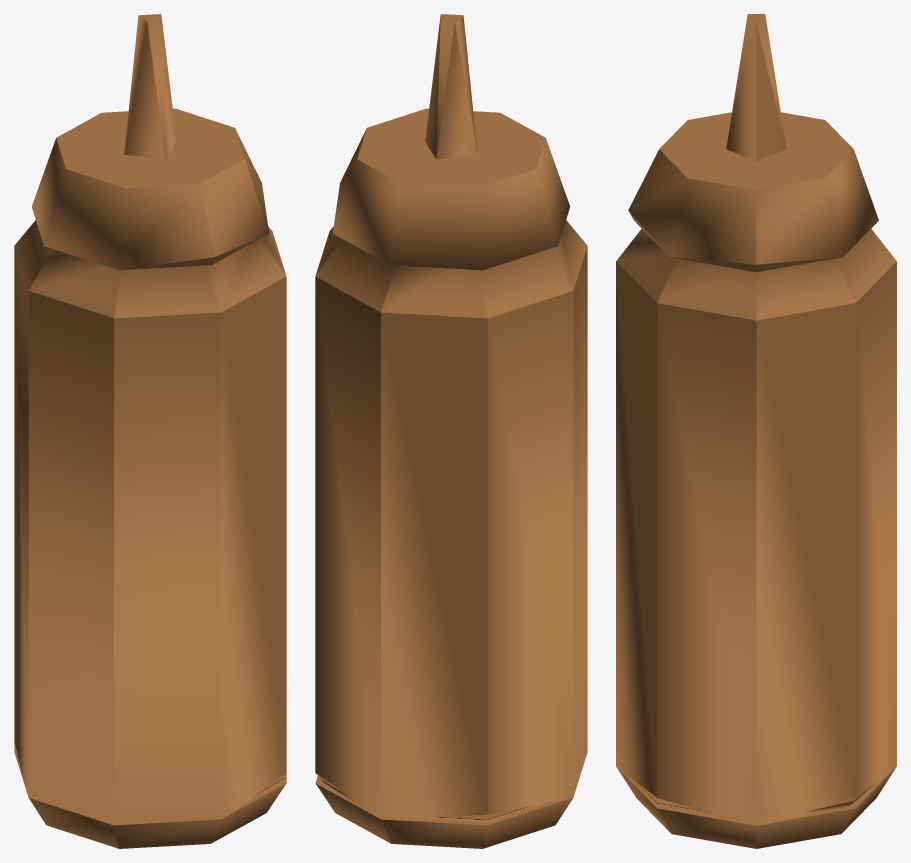
The model's file is cc0-mustard-bottle-lod1.glb.
The picture shows the model from 3 angles, left to right: view 1: azimuth 30°, elevation 25°; view 2: azimuth 150°, elevation 25°; view 3: azimuth 270°, elevation 25°; orthographic projection.
Visible parts, largest first — view 1: part_0; view 2: part_0; view 3: part_0.
Part boxes in pixels (<box>): part_0: <box>14,14,286,848</box>; part_0: <box>315,14,587,848</box>; part_0: <box>616,14,896,848</box>.
Size of the model in its own units: 0.4996 by 1.53 by 0.4996.
